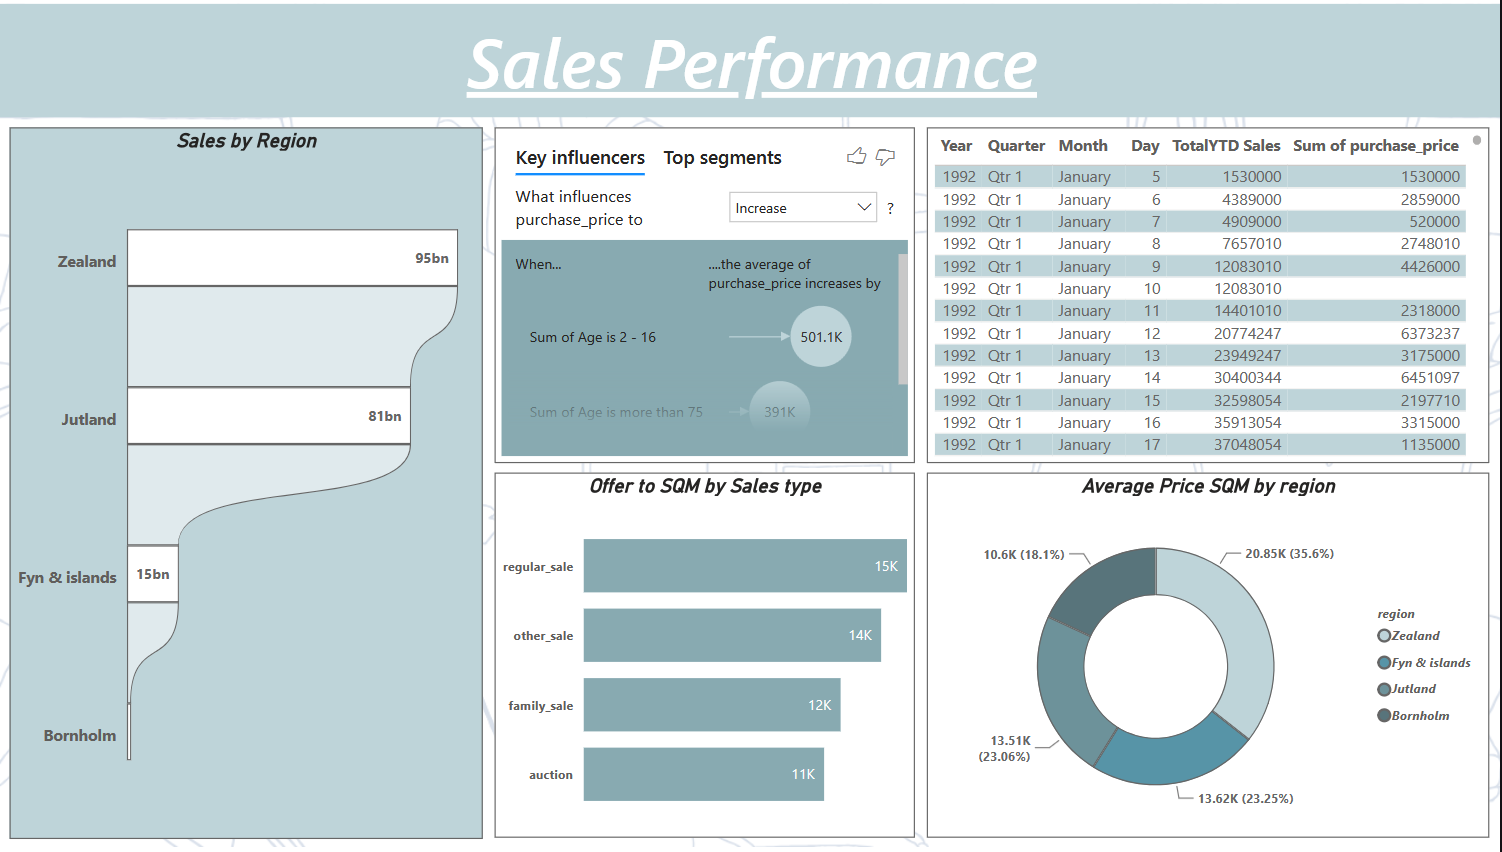

This screenshot's page, from the dashboard's own definition file:
{"tool":"powerbi","page":{"name":"Sales Performance","canvas":[1280,720],"ordinal":1},"visuals":[{"type":"shape","box":[0,0,1280,96.5],"z":0},{"type":"barChart","title":"Sales by Region","fields":{"Category":["Google Housing Data.region"],"Y":["Measures table.Sales by Region"]},"box":[8.4,105,403,605.6],"z":1000},{"type":"tableEx","fields":{"Values":["Google Housing Data.date.Variation.Date Hierarchy.Year","Google Housing Data.date.Variation.Date Hierarchy.Quarter","Google Housing Data.date.Variation.Date Hierarchy.Month","Google Housing Data.date.Variation.Date Hierarchy.Day","Measures table.TotalYTD Sales","Sum(Google Housing Data.purchase_price)"]},"box":[789,105,479,285.9],"z":2000},{"type":"donutChart","fields":{"Category":["Google Housing Data.region"],"Y":["Measures table.Average Price SQM"]},"box":[789,399.3,479,311.3],"z":3000},{"type":"keyDriversVisual","fields":{"ExplainBy":["Sum(Google Housing Data.Age)"],"Target":["Google Housing Data.purchase_price"]},"box":[421,105,358.3,285.9],"z":4000},{"type":"barChart","title":"Offer to SQM by Sales type","fields":{"Category":["Google Housing Data.sales_type"],"Y":["Measures table.Offer to SQM Ratio"]},"box":[421,399.3,358.3,311.3],"z":5000}]}

Visuals, with their boxes in screenshot pixels (x1, y1, x2, y2), scaled from the page's 1280x720 canvas onto the 1502x852 screenshot:
shape: bbox=[0, 0, 1501, 114]
"Sales by Region" barChart: bbox=[10, 124, 483, 841]
tableEx - Google Housing Data.date.Variation.Date Hierarchy.Year x Google Housing Data.date.Variation.Date Hierarchy.Quarter: bbox=[926, 124, 1488, 463]
donutChart - Google Housing Data.region x Measures table.Average Price SQM: bbox=[926, 473, 1488, 841]
keyDriversVisual - Sum(Google Housing Data.Age) x Google Housing Data.purchase_price: bbox=[494, 124, 914, 463]
"Offer to SQM by Sales type" barChart: bbox=[494, 473, 914, 841]
